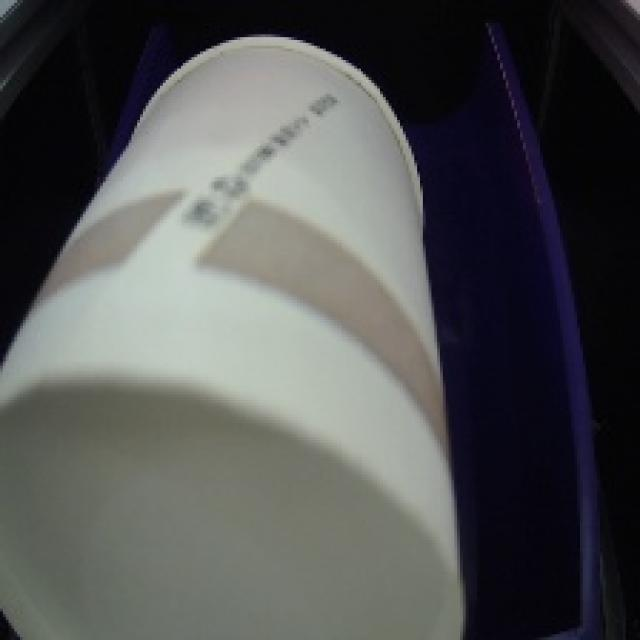cups: (0, 25, 477, 640)
